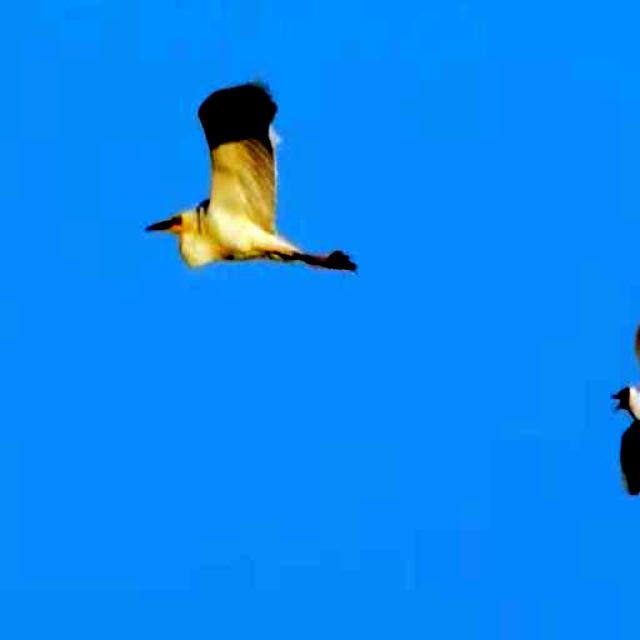airplane: (142, 75, 368, 290), (615, 274, 640, 501)
